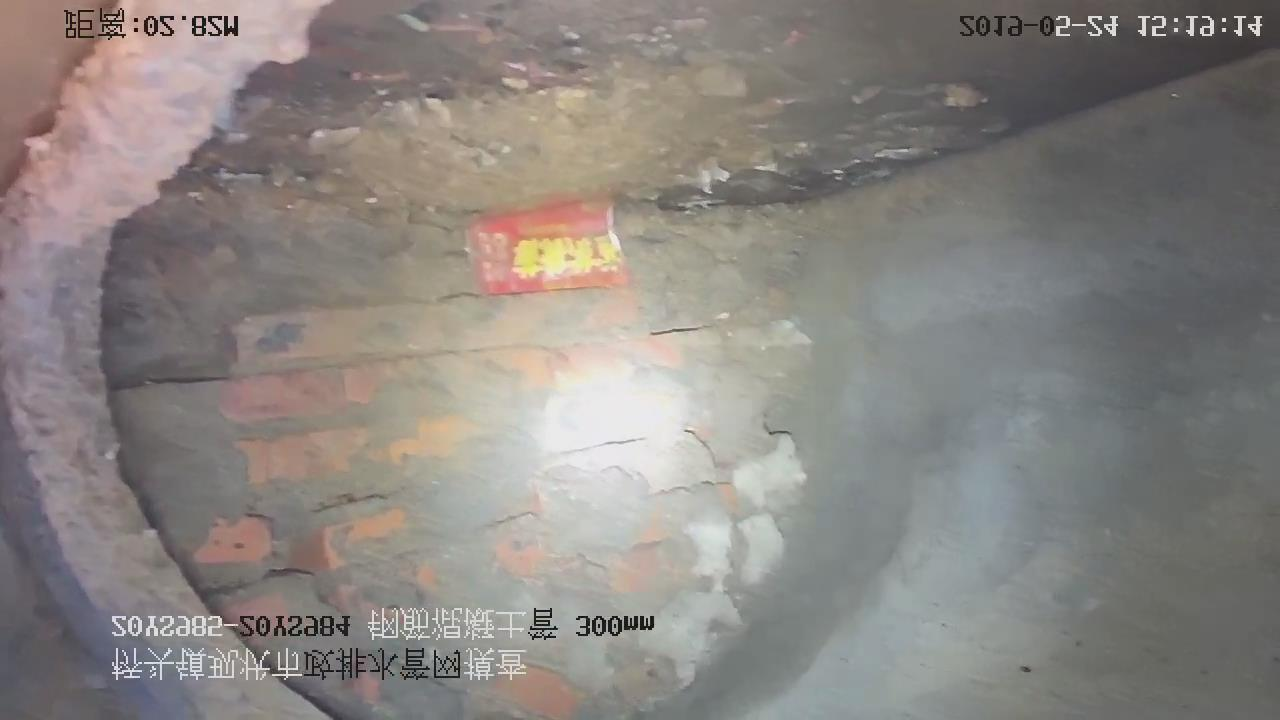CJ: (171, 1, 1279, 213)
CQBG: (104, 182, 809, 720)
